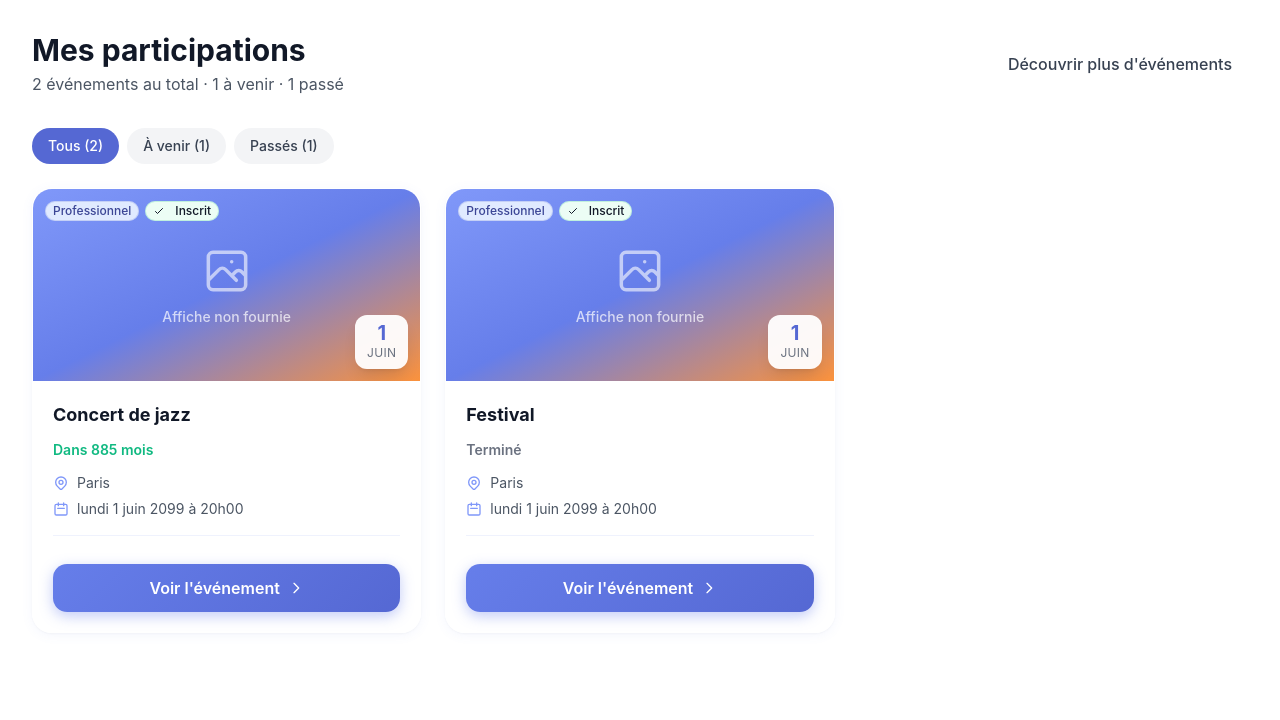
MyParticipatedEventsPage › filters events by upcoming/past
Check: the heading "Concert de jazz" is shown, box 53,404 -> 191,425
Click the button "Passés (1)": (284, 146) 234,128 -> 334,164
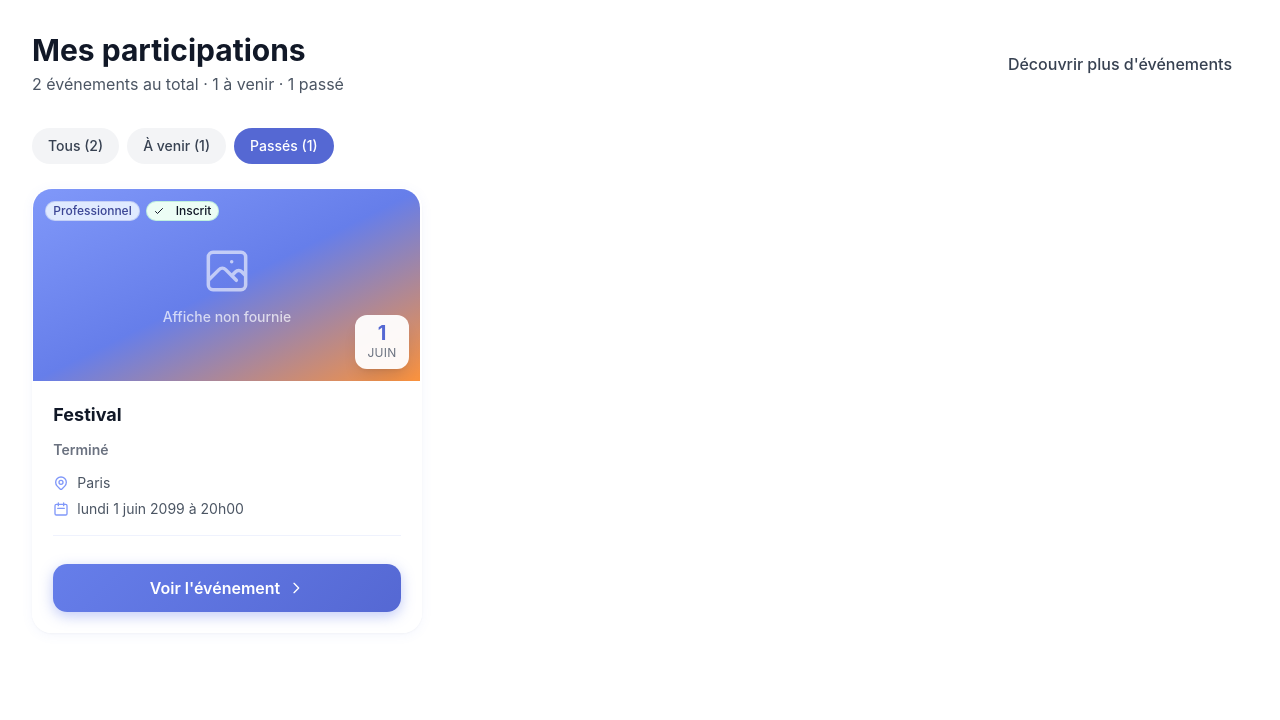
Check: the heading "Festival" is shown, box 53,404 -> 121,425
Check: the heading "Concert de jazz" is gone
